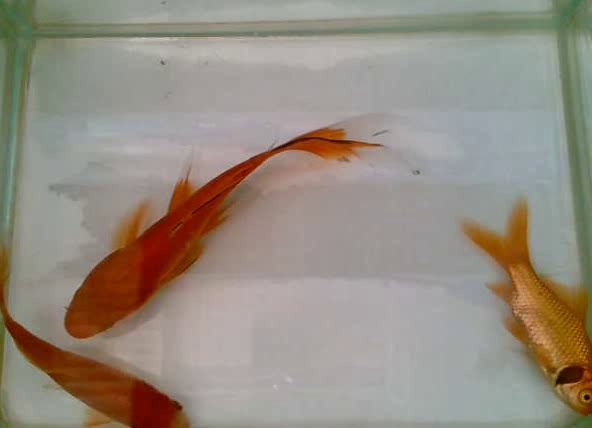alive_fish: (55, 105, 394, 340), (1, 247, 209, 428)
dead_fish: (446, 187, 592, 423)
